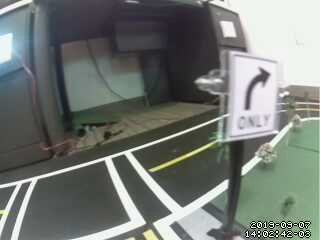Right_only_sign: (219, 52, 284, 152)
